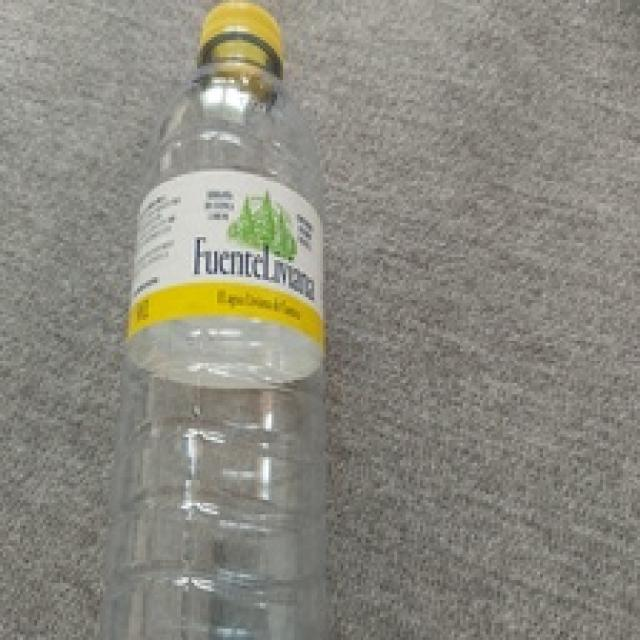Plastic: (119, 0, 334, 640)
